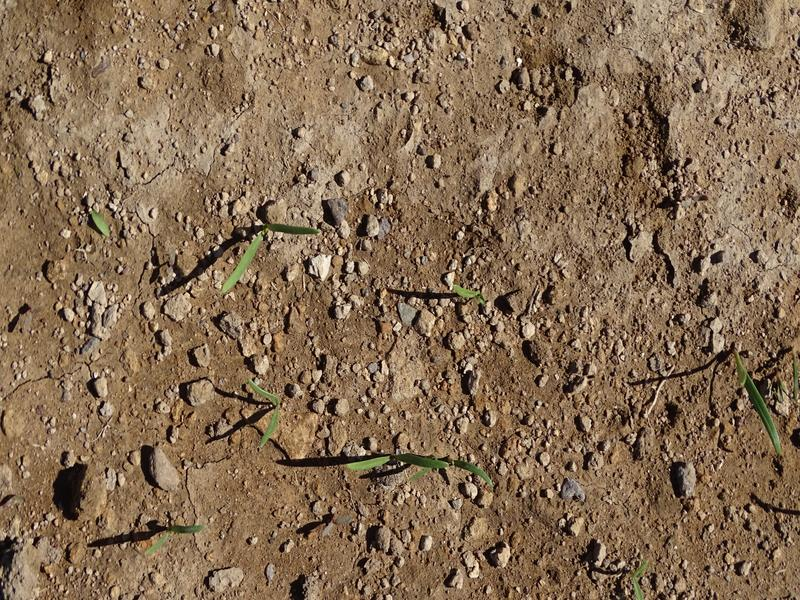Espinaca: (218, 218, 317, 296), (721, 344, 786, 459), (351, 451, 497, 487), (245, 377, 289, 446)
